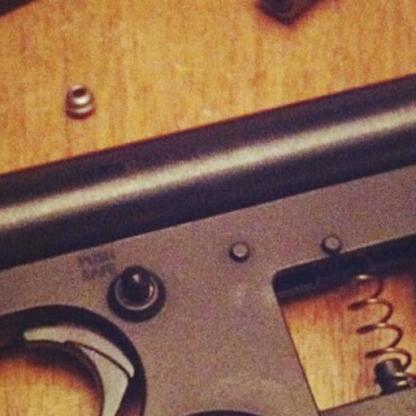gun: (0, 41, 415, 416)
